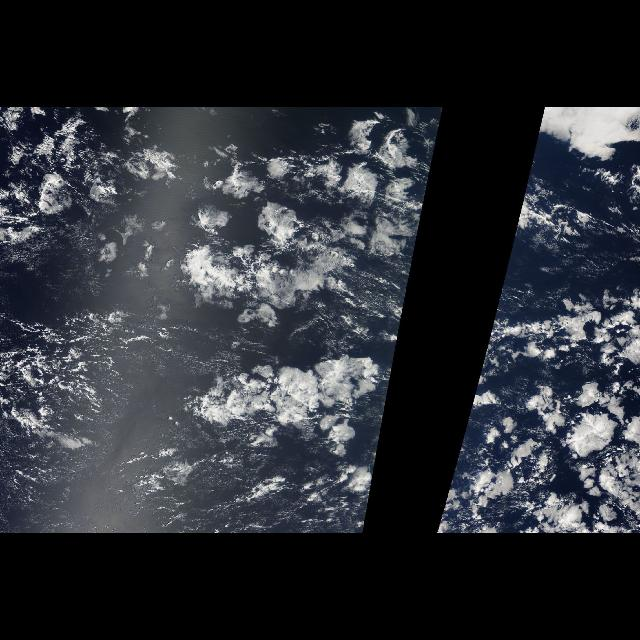Flower: (1, 108, 443, 526), (434, 285, 640, 533)
Gravel: (0, 336, 120, 486)
